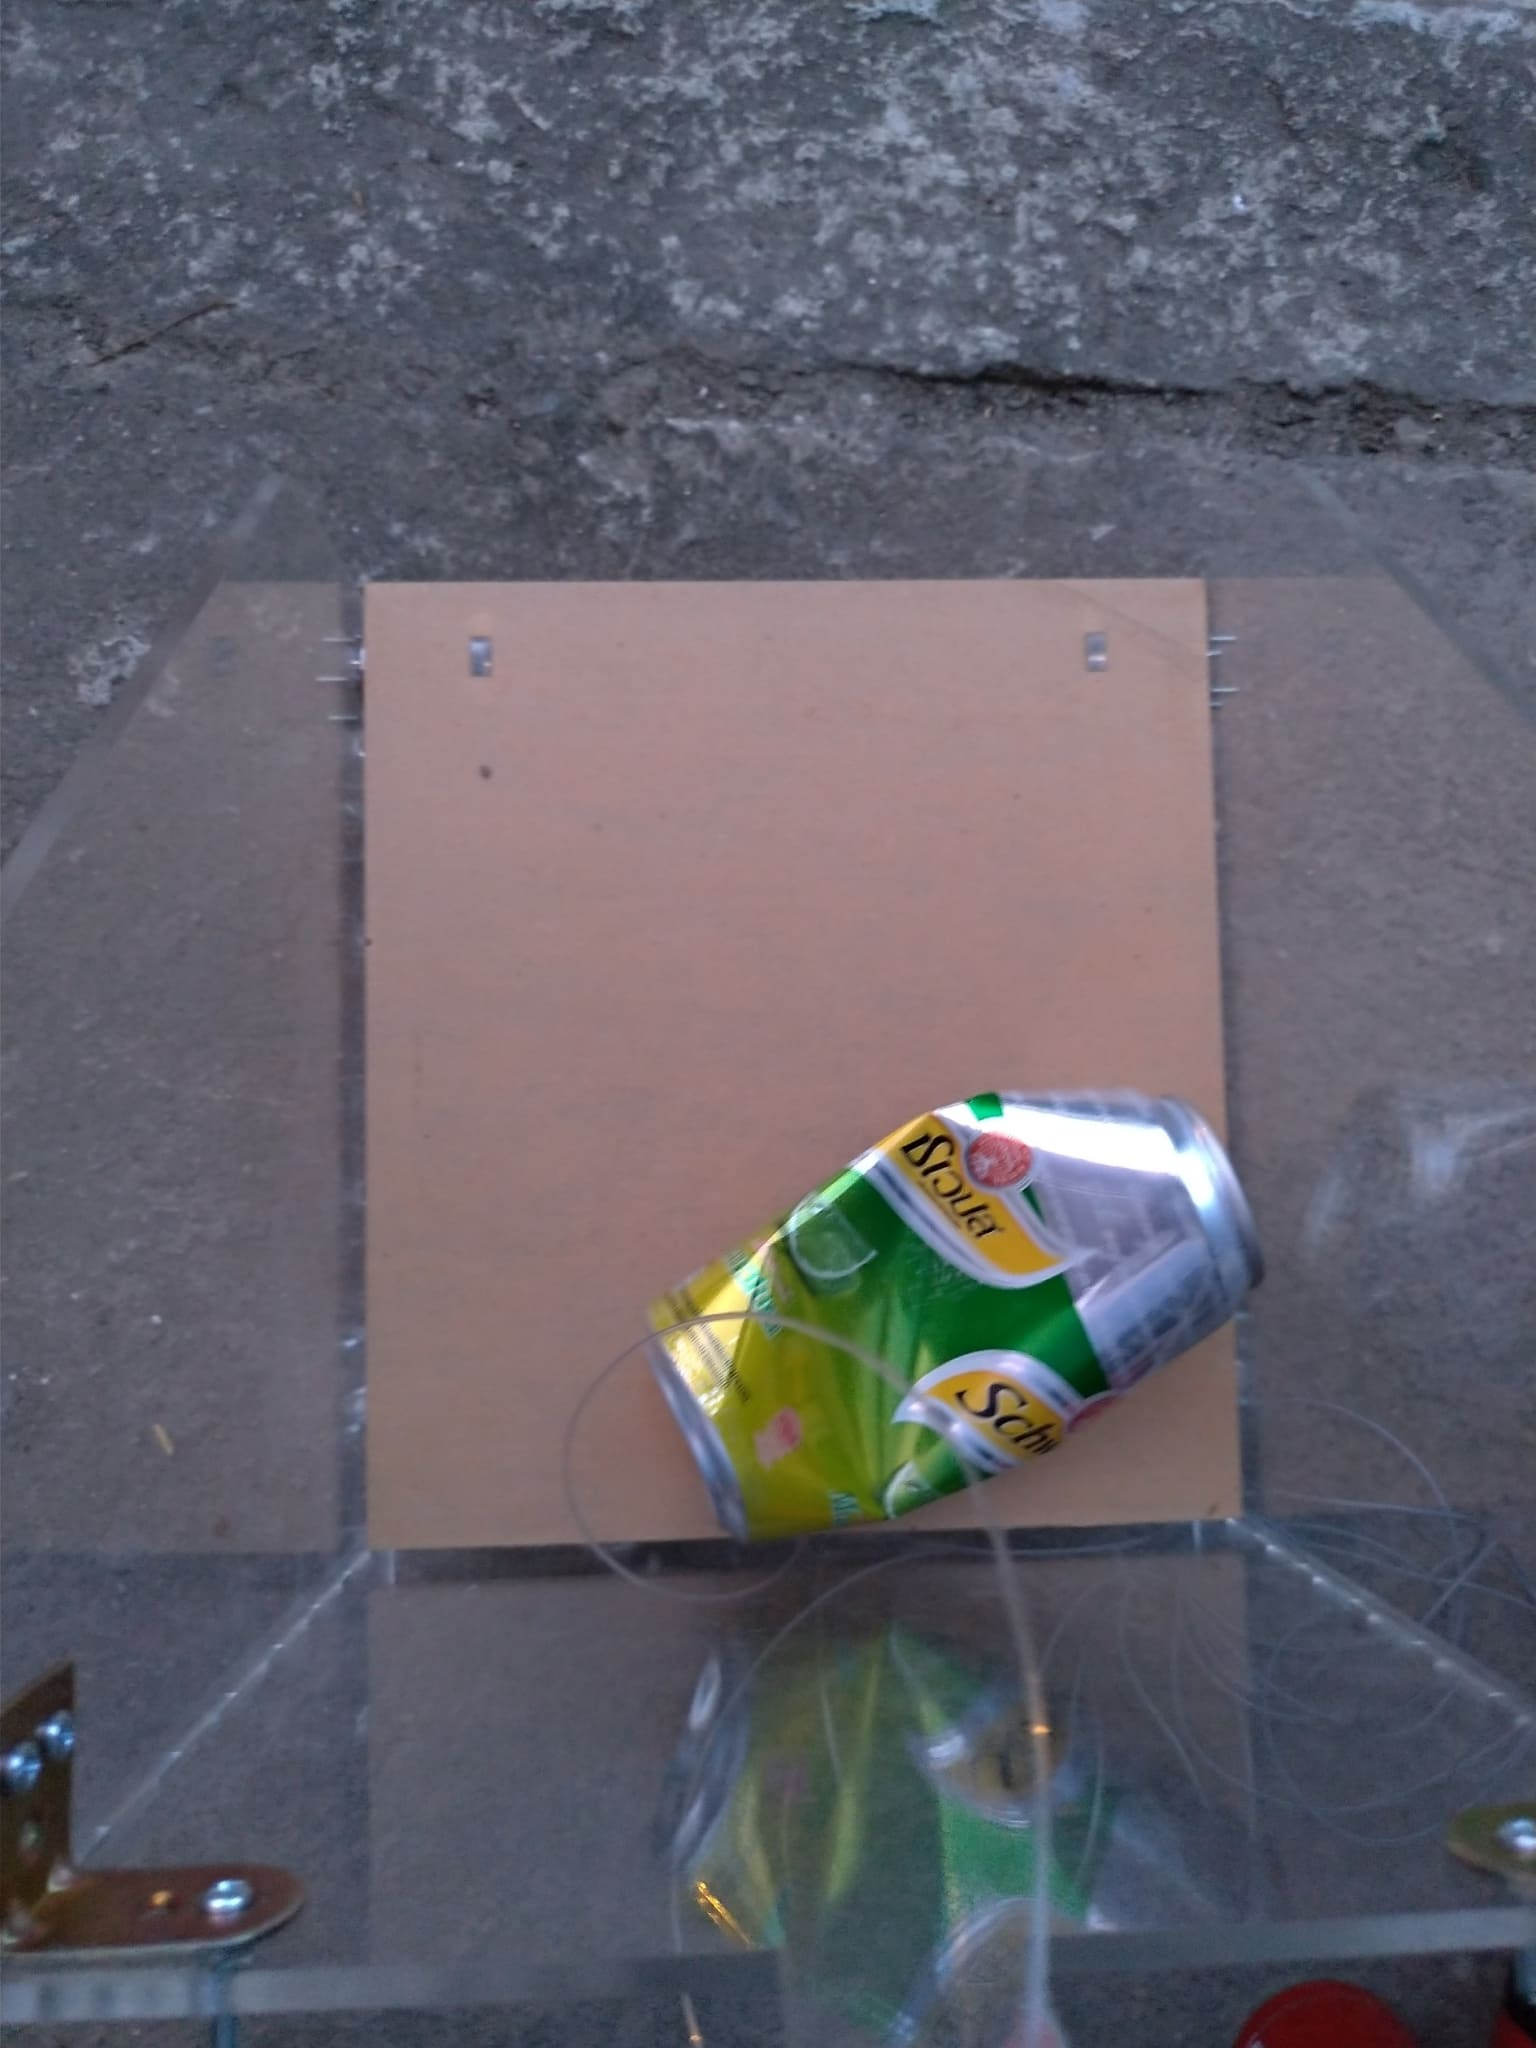AlCan: (641, 1093, 1270, 1551)
